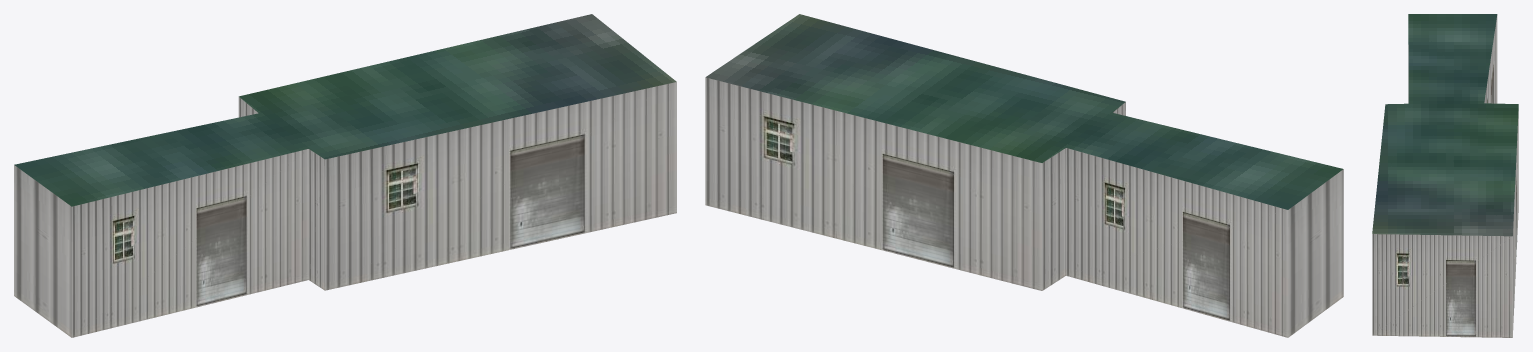
The picture shows the model from 3 angles, left to right: view 1: azimuth 30°, elevation 25°; view 2: azimuth 150°, elevation 25°; view 3: azimuth 270°, elevation 25°; orthographic projection. The views are drawn at different scales.
Visible parts, largest first — view 1: SketchUp (×2); view 2: SketchUp (×2); view 3: SketchUp (×2).
Boxes of the visible parts, left/top/right/bottom form: SketchUp (×2): left=14, top=14, right=676, bottom=337; SketchUp (×2): left=705, top=14, right=1343, bottom=337; SketchUp (×2): left=1372, top=14, right=1518, bottom=337.
Size of what is drawn, in the model's own units: 610 by 170 by 130.
Materials: 2 (2 with a texture image).
